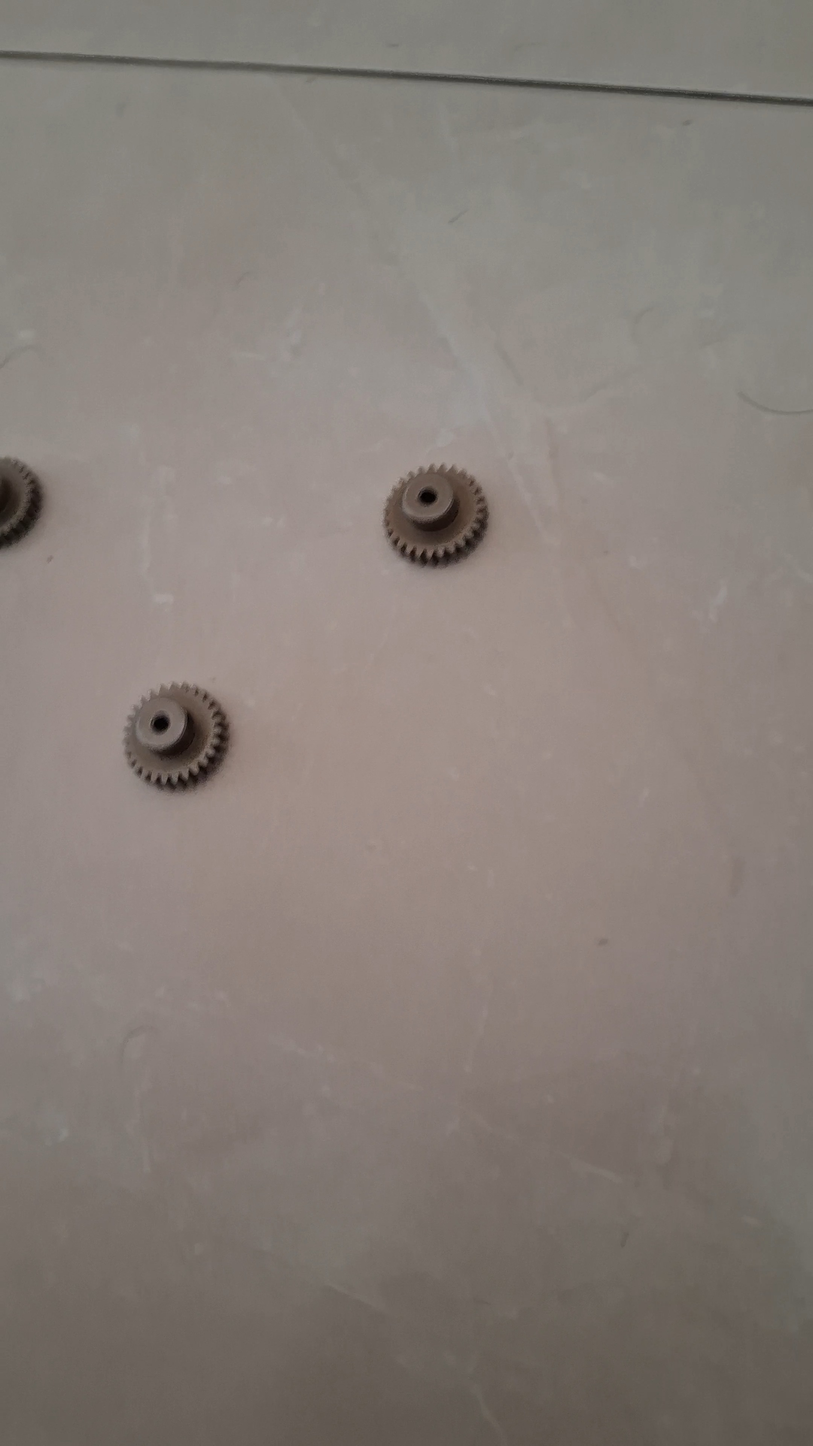spur gear: (124, 683, 227, 788), (384, 466, 487, 564), (0, 459, 41, 546)
